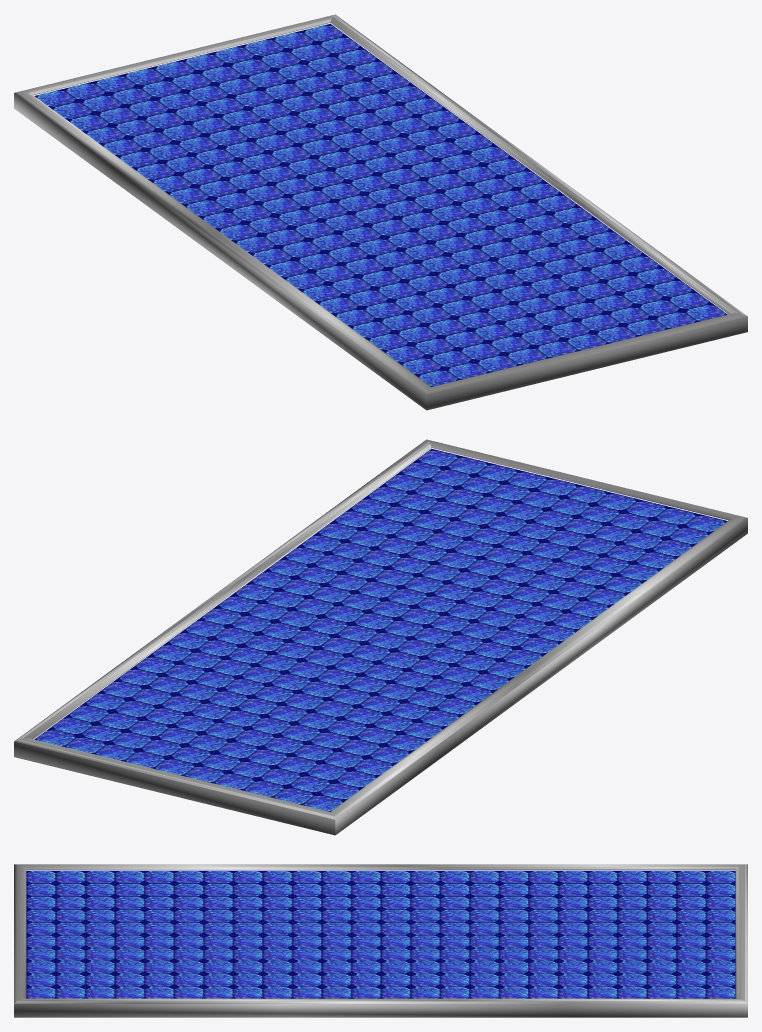
Rendered from solar_panel_140W.glb.
3 renders of one model, top to bottom at view 1: azimuth 30°, elevation 25°; view 2: azimuth 150°, elevation 25°; view 3: azimuth 270°, elevation 25°, orthographic. The views are drawn at different scales.
Bounding box in the file's own units: 66.8 × 3.5 × 149.
Materials: 4 (2 with a texture image).
